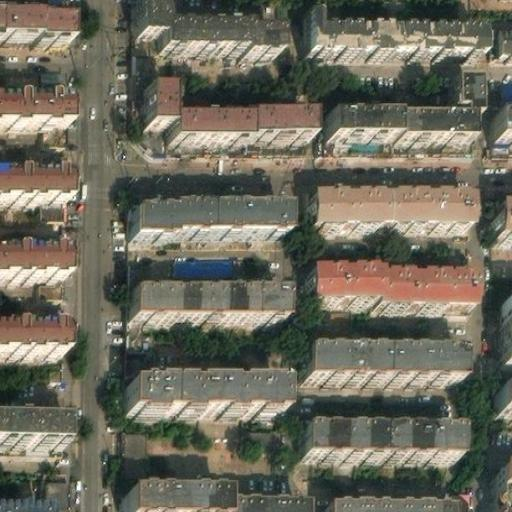building: (145, 82, 311, 141), (327, 82, 474, 139), (135, 0, 276, 55), (303, 9, 481, 52), (314, 266, 481, 308), (307, 193, 469, 232), (129, 203, 285, 238), (300, 347, 457, 380), (124, 378, 281, 410), (298, 425, 454, 456), (131, 287, 285, 318), (125, 487, 298, 512), (0, 417, 60, 444), (119, 433, 149, 482), (168, 258, 233, 280), (325, 502, 449, 512), (488, 459, 512, 510), (484, 113, 512, 151), (495, 303, 512, 360), (47, 474, 71, 512), (486, 29, 512, 61), (445, 487, 478, 512), (491, 204, 512, 240), (496, 384, 512, 409)
